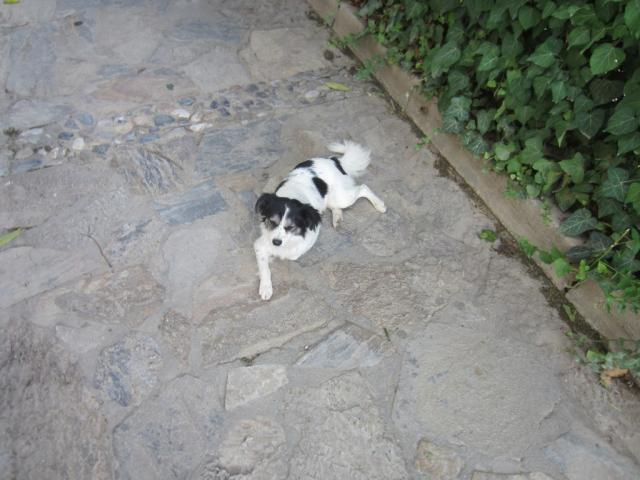Dog: (251, 138, 389, 302)
